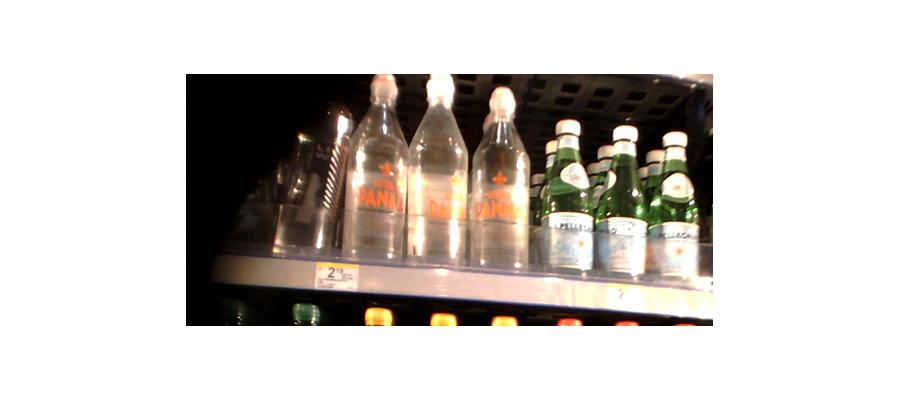bottle: (405, 83, 469, 266), (471, 90, 531, 274), (345, 79, 404, 259), (540, 116, 596, 275), (270, 113, 330, 261), (599, 123, 648, 281), (651, 130, 698, 282)
